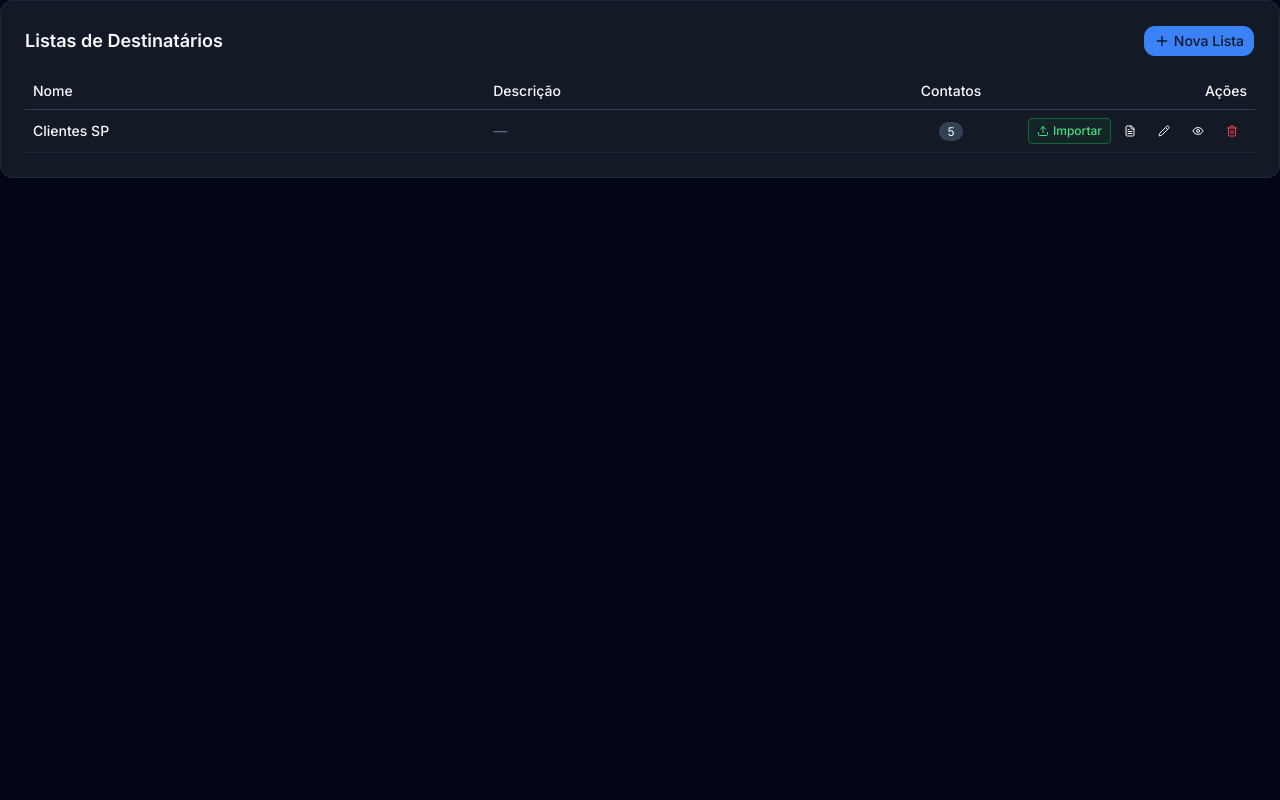
Test case: ListasTab › busca por email filtra os contatos e remove os encontrados
Click the button named "Editar lista Clientes SP" at (1164, 131), box [1149,119,1179,143]
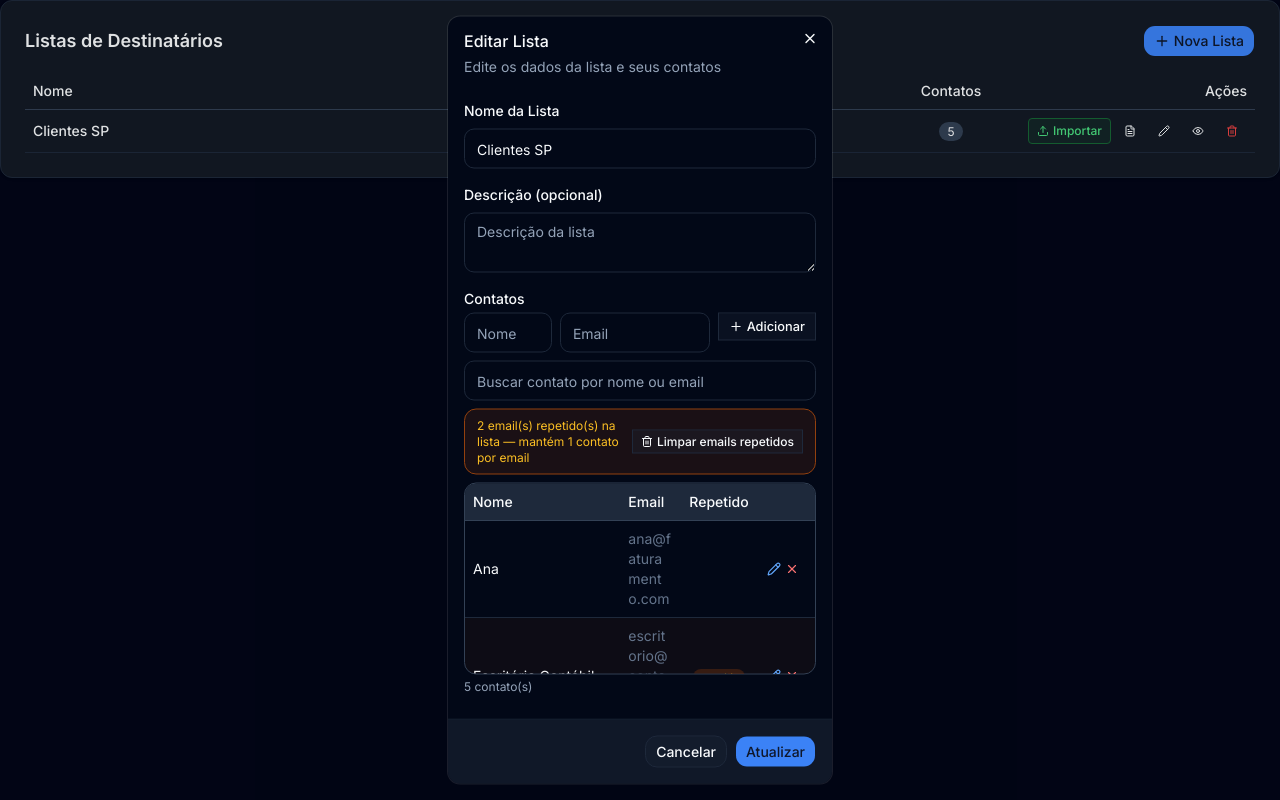
expect the heading "Editar Lista" is shown: met, box [464,30,549,50]
Type "escritorio@contabil.com" into the field labelled "Buscar contato por nome ou email" at (640, 380), box [464,360,816,400]
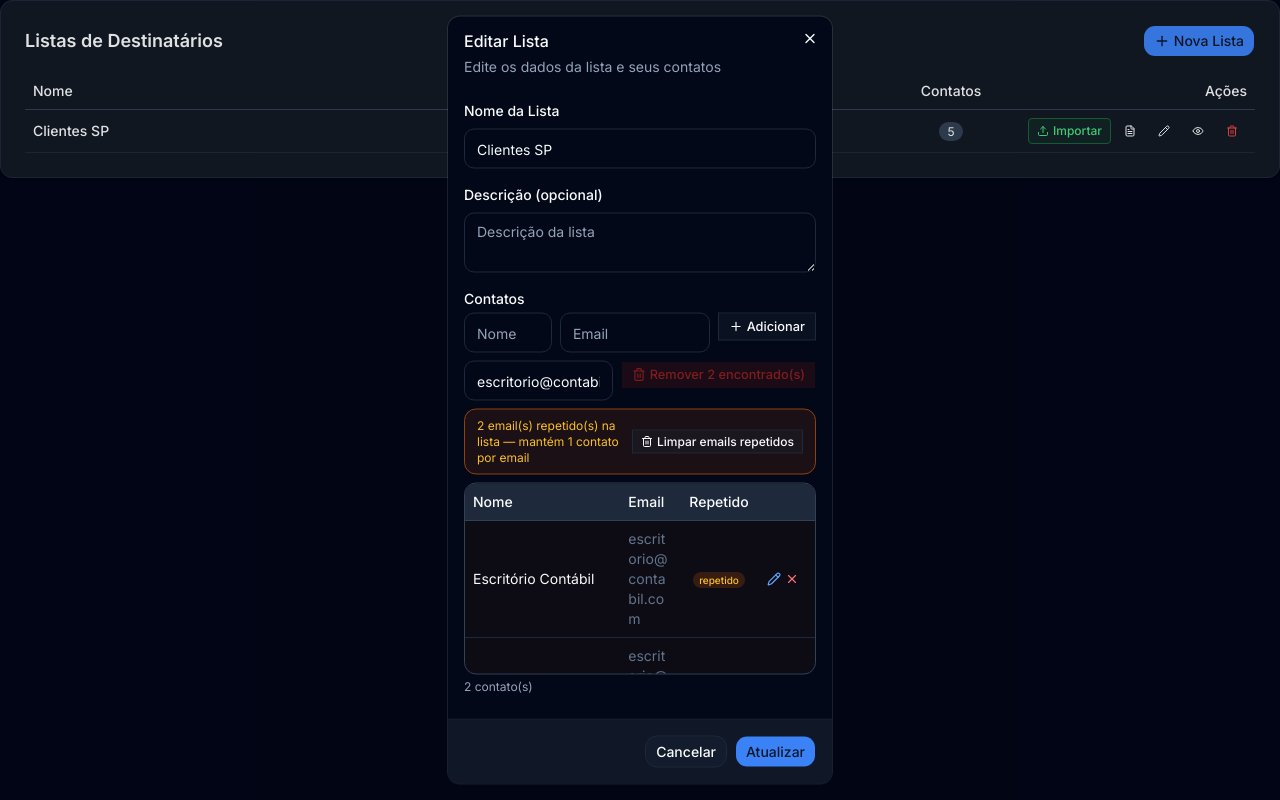
expect the text "Escritório Contábil" is shown: met, box [465,520,620,637]
expect the text "Ana" is gone: met
Click the button "Remover 2 encontrado(s)" at (718, 374), box [621,360,816,388]
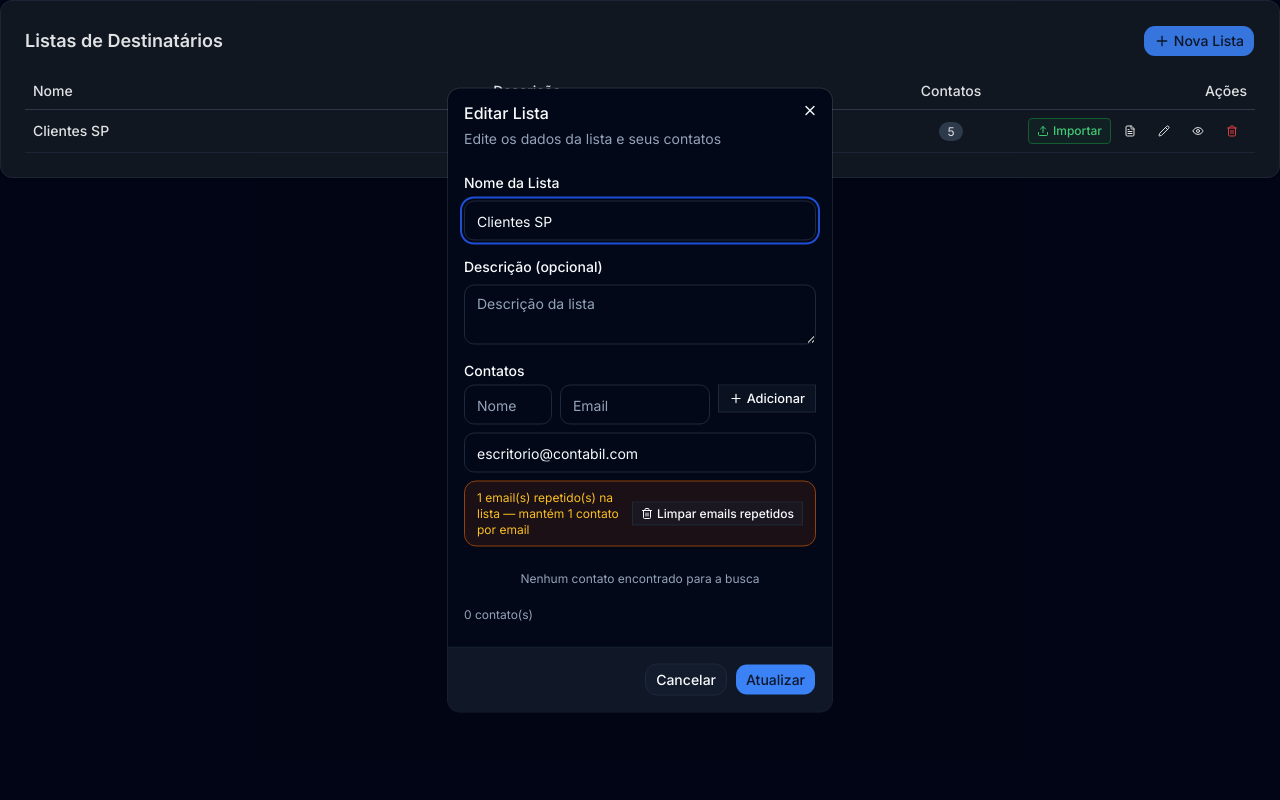
expect the text "Nenhum contato encontrado para a busca" is shown: met, box [520,570,760,586]
expect the text "1 email(s) repetido(s) na lista — mantém 1 contato por email" is shown: met, box [477,490,624,538]
